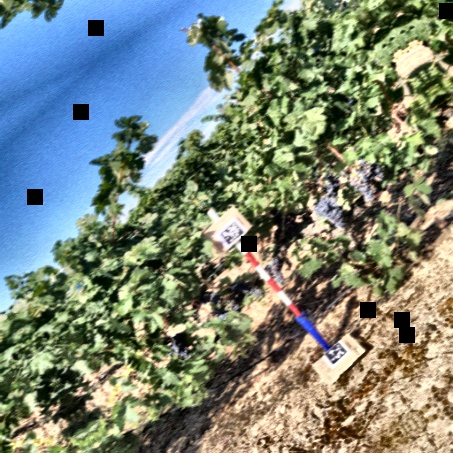QR: (217, 219, 247, 248), (321, 340, 351, 368)
